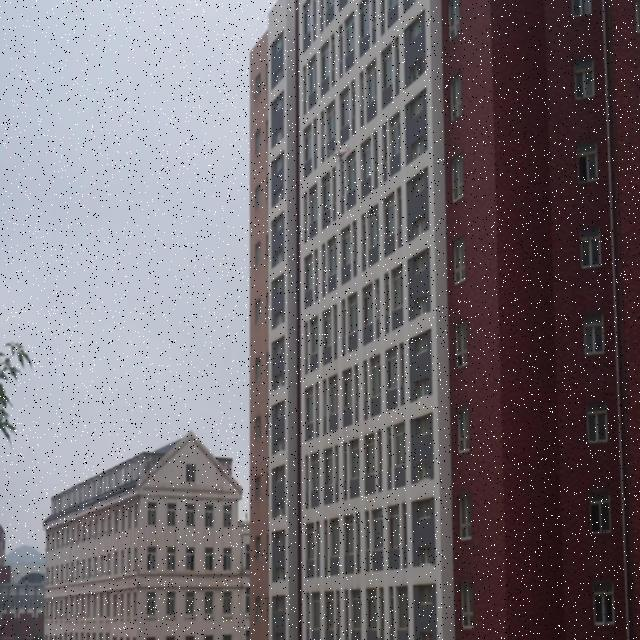UAV: (327, 146, 352, 165)
